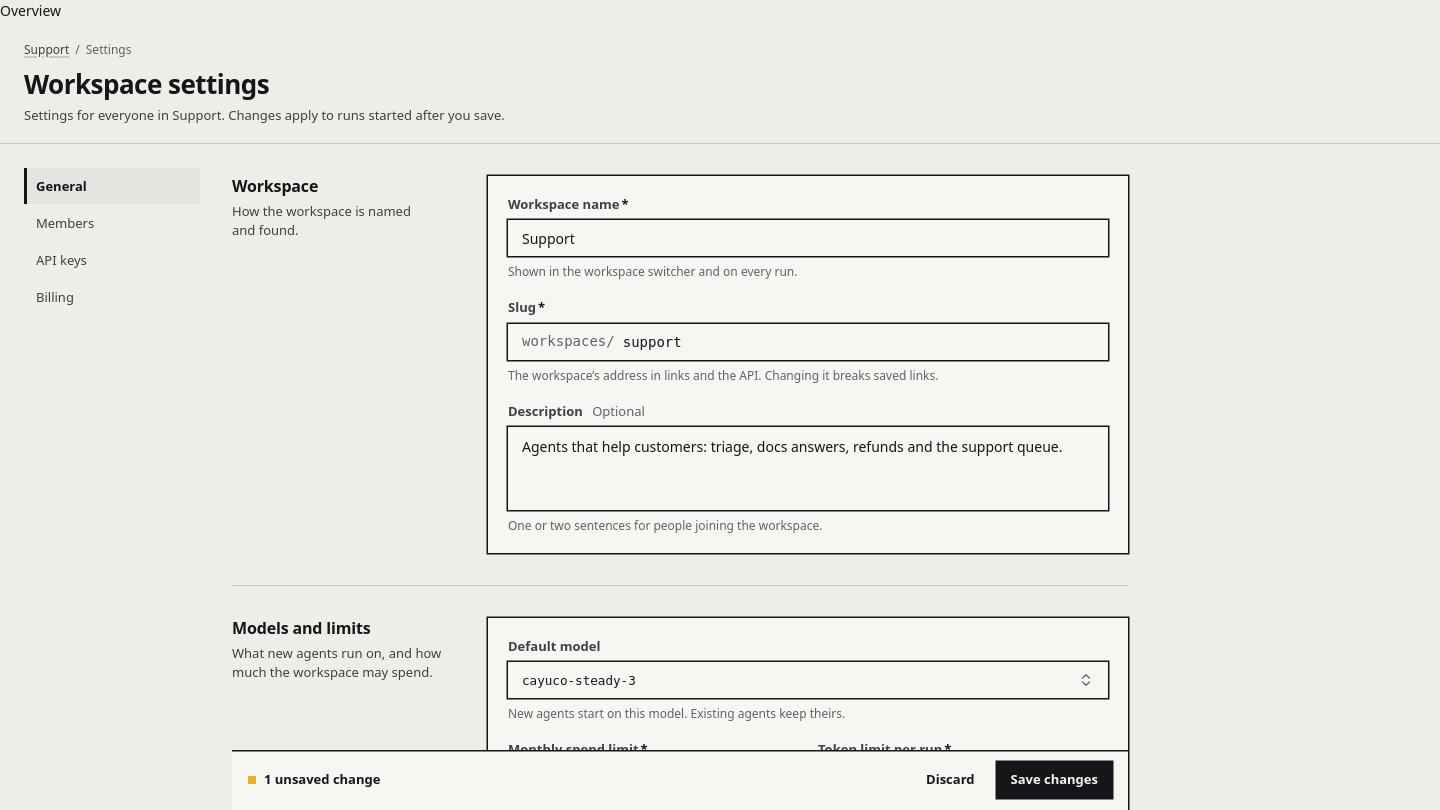
SettingsPage › saves, confirms with a toast and keeps focus on Save
Click the button "Save changes" at (1054, 780), box [996, 762, 1112, 798]
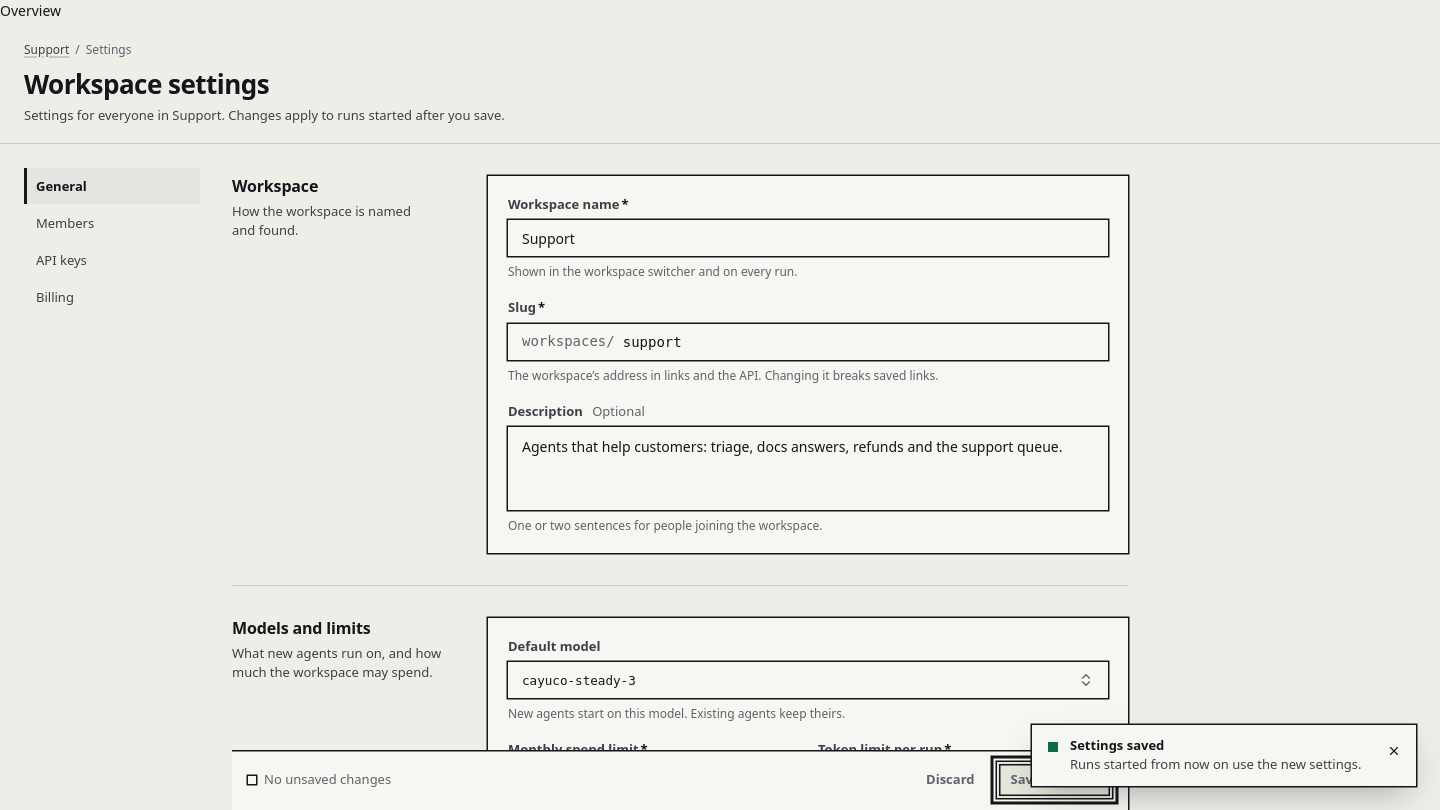
expect the heading "Settings saved" is shown: met, box [1069, 735, 1164, 754]
expect the message reads "No unsaved changes": met, box [264, 771, 391, 789]
